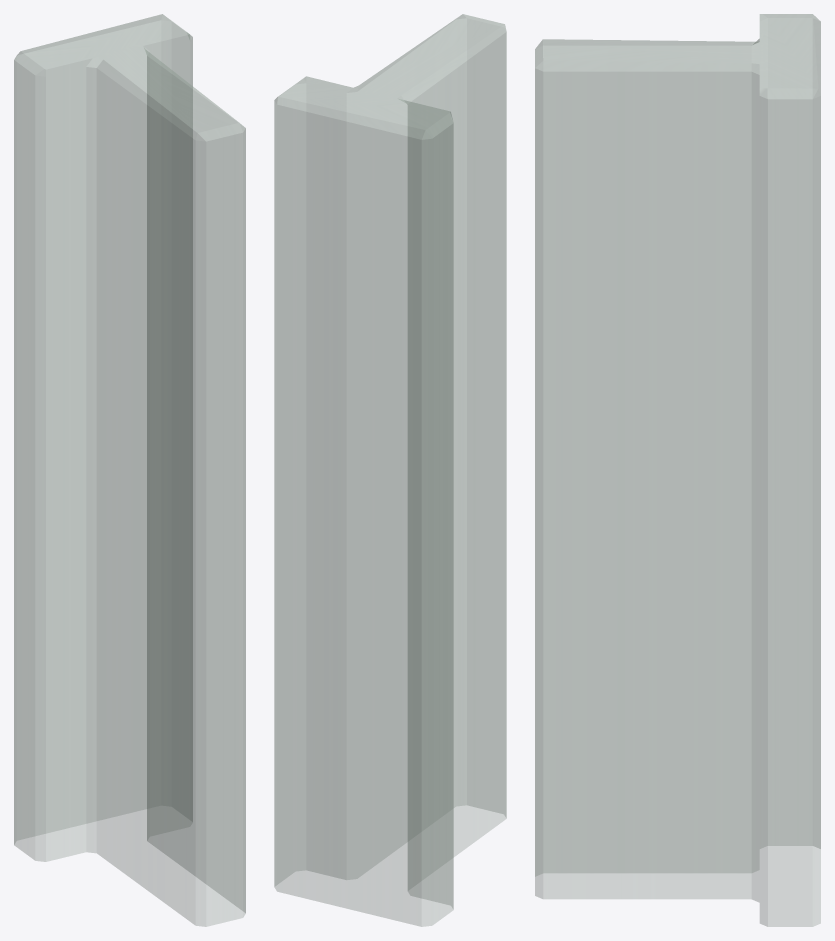
3 renders of one model, left to right at view 1: azimuth 30°, elevation 25°; view 2: azimuth 150°, elevation 25°; view 3: azimuth 270°, elevation 25°, orthographic. The views are drawn at different scales.
Parts seen in each view (by area): view 1: T; view 2: T; view 3: T.
Part boxes in pixels (x1,y1,x2,y2): T: (14,14,245,926); T: (274,14,506,926); T: (535,14,820,926).
Size of the model in its own units: 0.4042 by 1.94 by 0.6019.
Materials: 1 (1 with a texture image).
